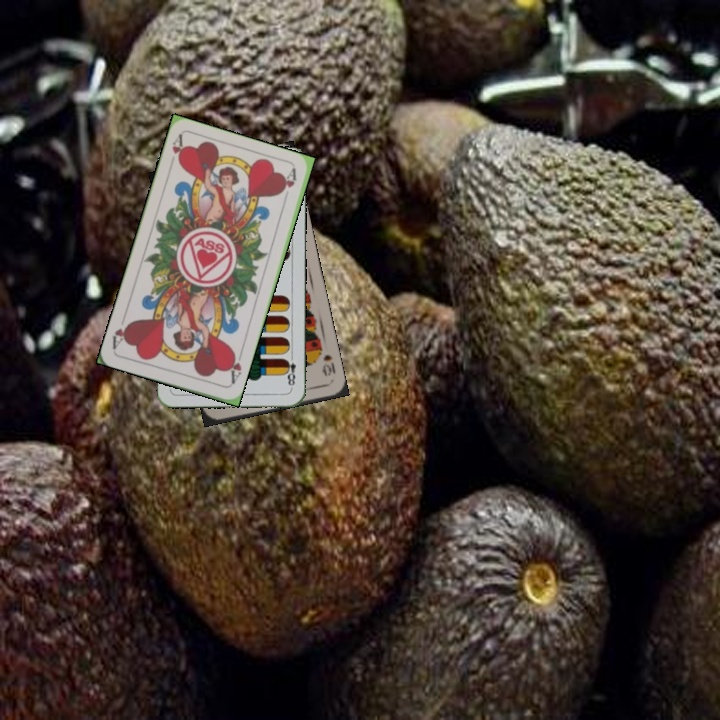E8: (281, 351, 298, 391)
HA: (165, 131, 188, 171), (224, 348, 245, 387)
S10: (318, 350, 338, 379)
